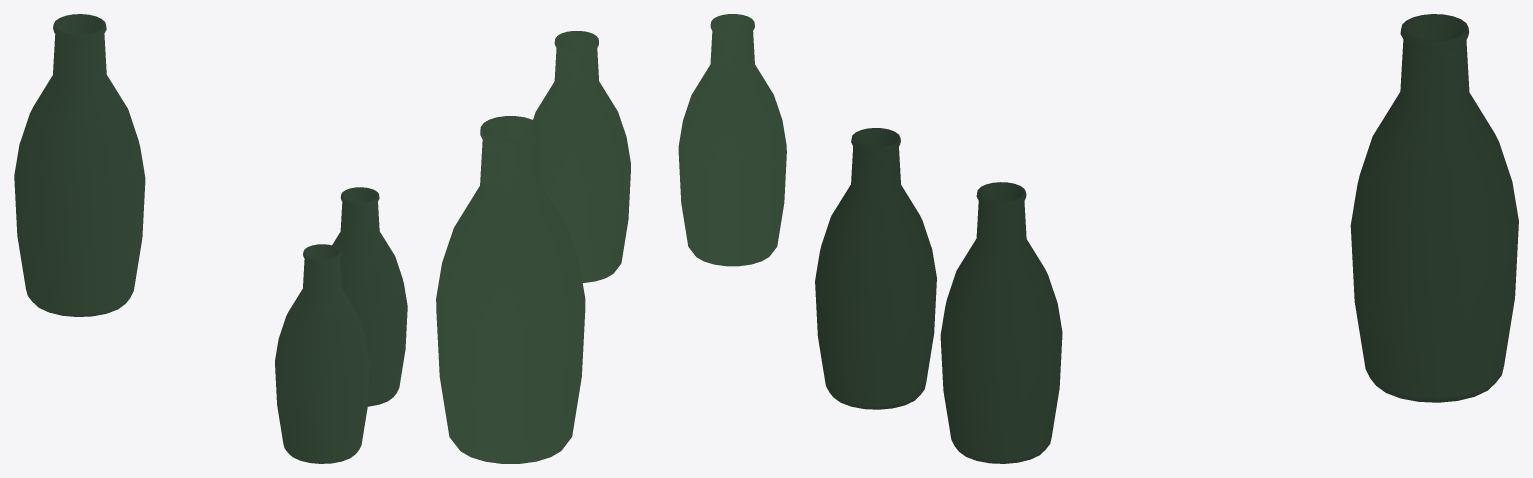
Rendered from Bottle_29971174.obj.
The picture shows the model from 3 angles, left to right: view 1: azimuth 30°, elevation 25°; view 2: azimuth 150°, elevation 25°; view 3: azimuth 270°, elevation 25°; orthographic projection. The views are drawn at different scales.
Parts seen in each view (by area): view 1: Bottle_29971174; view 2: Bottle_29971174; view 3: Bottle_29971174.
Part boxes in pixels (x1,y1,x2,y2): Bottle_29971174: [14, 14, 407, 463]; Bottle_29971174: [436, 14, 786, 463]; Bottle_29971174: [815, 14, 1518, 463].
Bounding box in the file's own units: 0.1656 × 0.2055 × 0.376.
